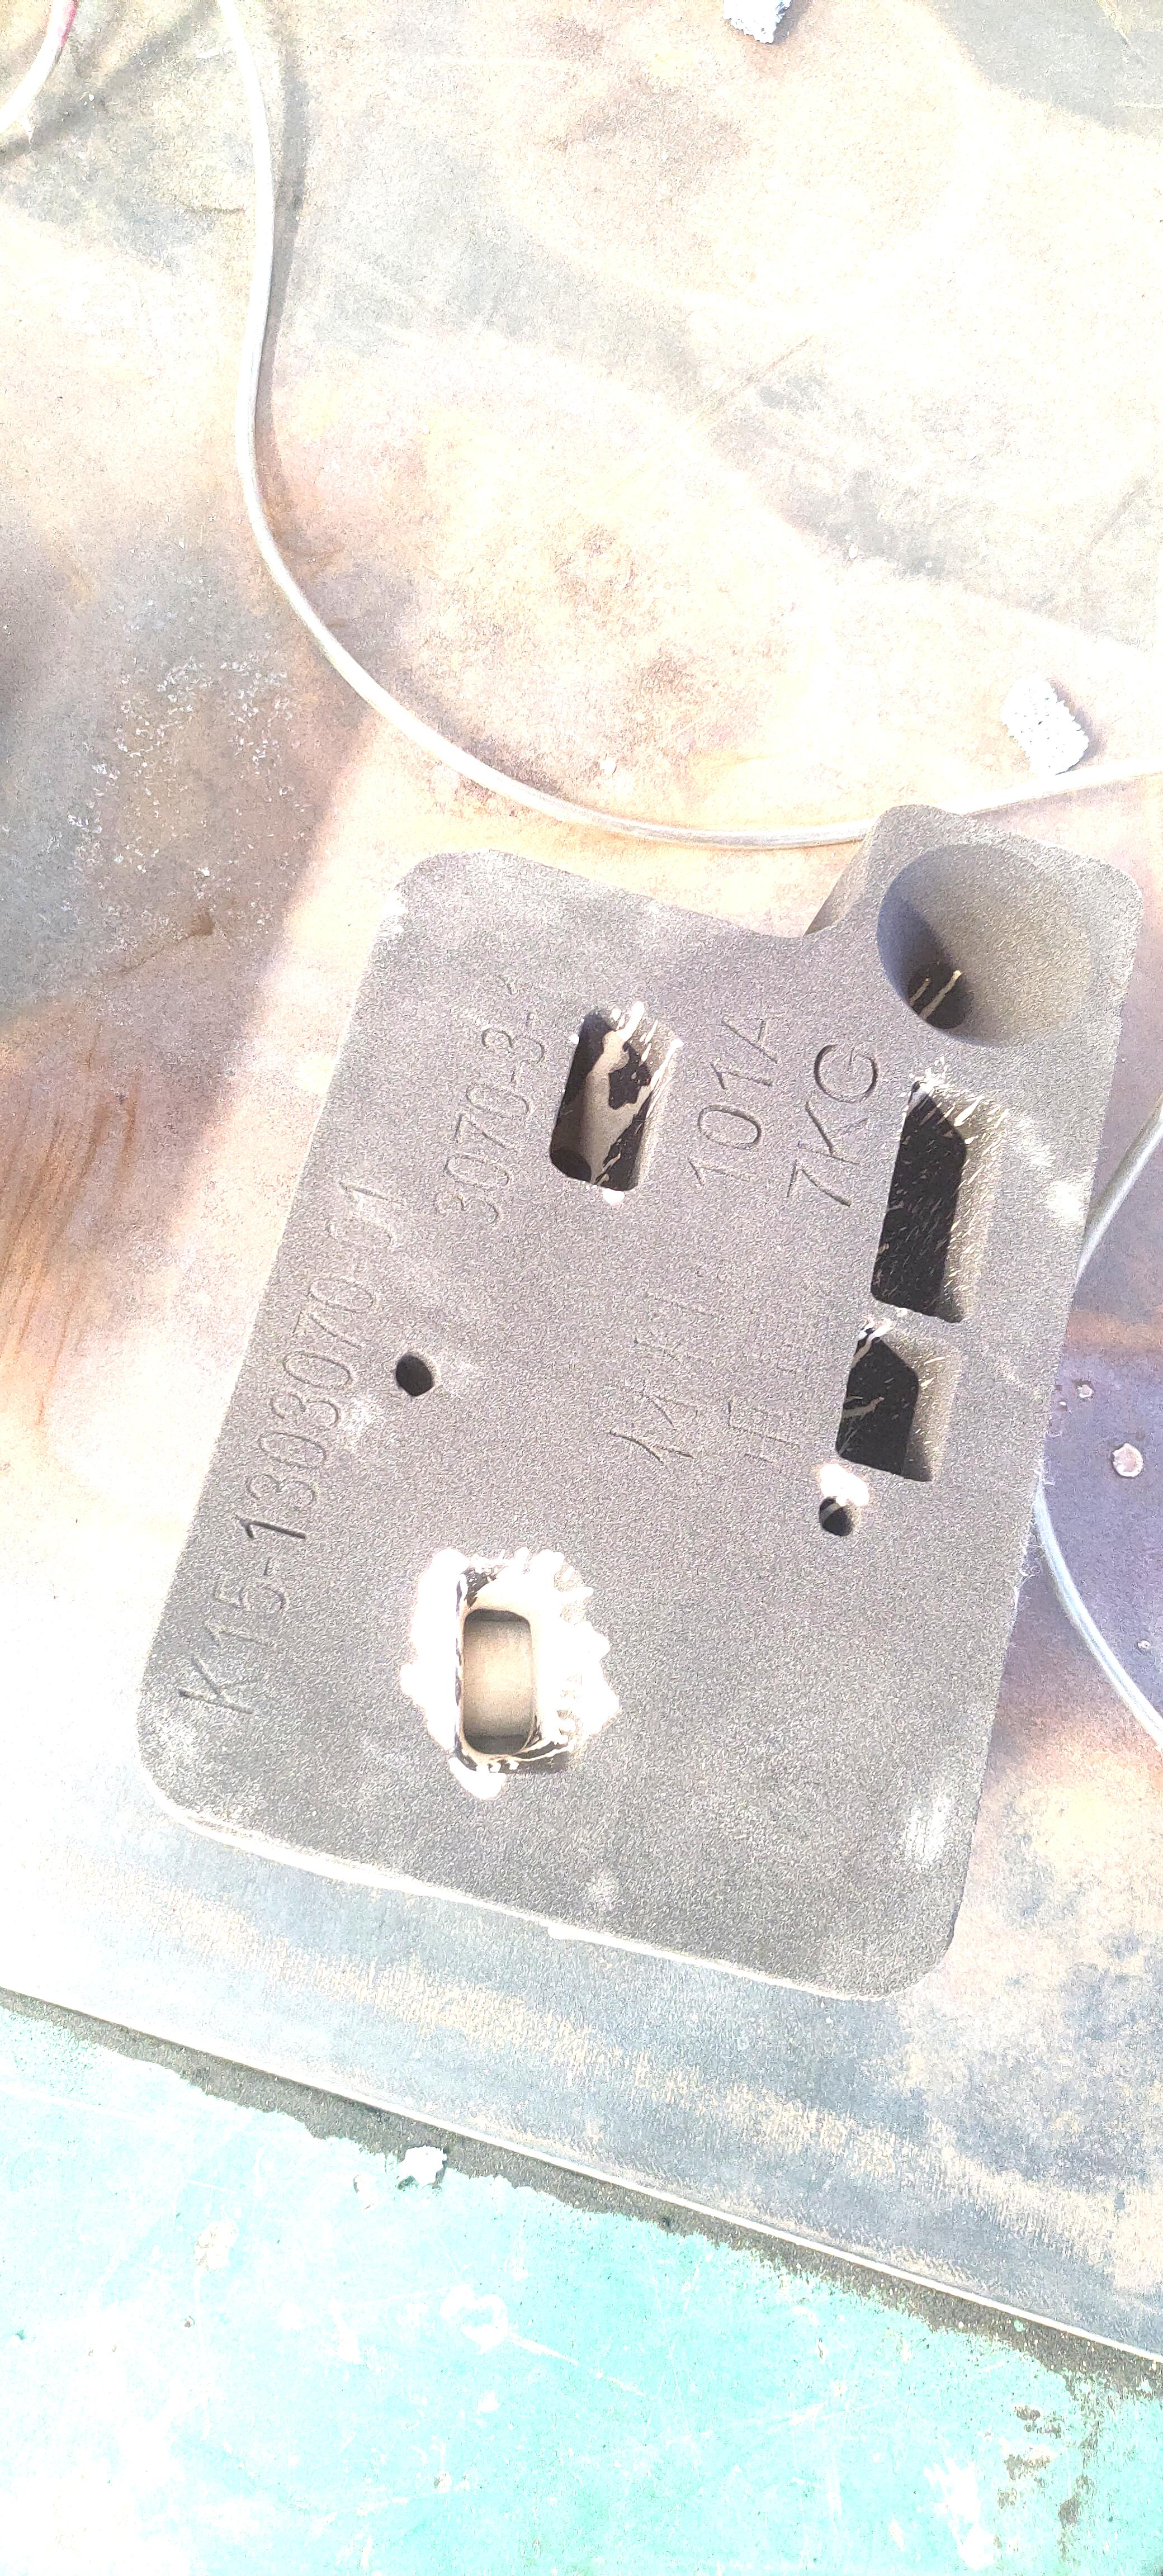pouring hole: (874, 841, 1089, 1050)
